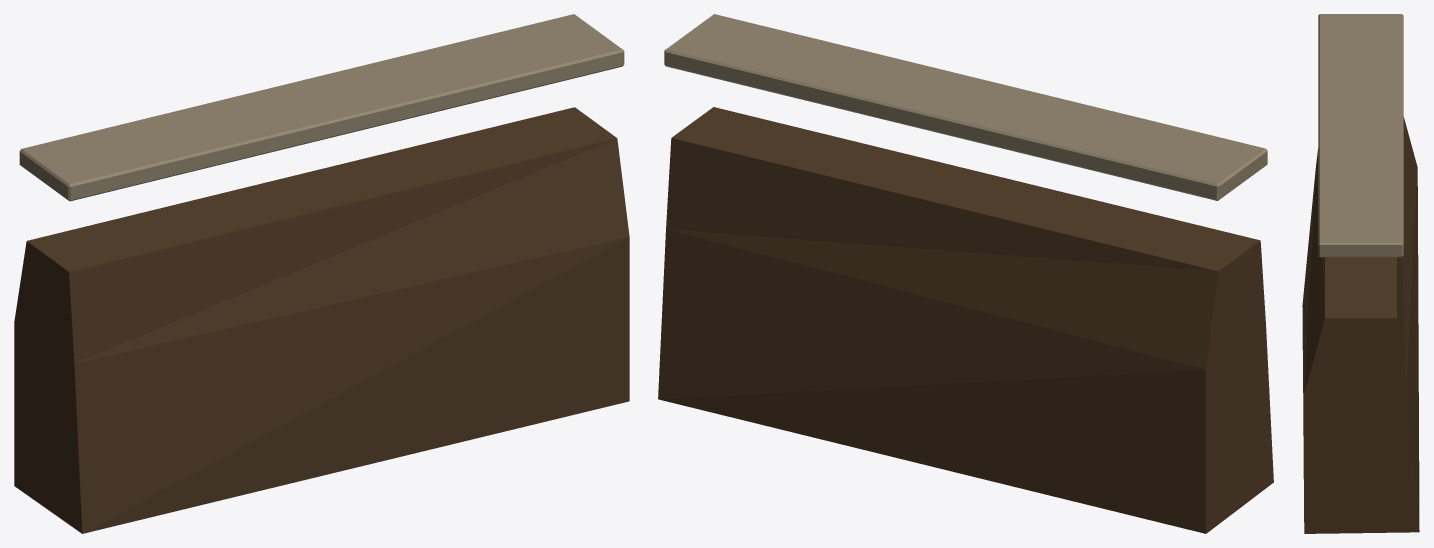
The model's file is retaining-wall-lod1.glb.
3 renders of one model, left to right at view 1: azimuth 30°, elevation 25°; view 2: azimuth 150°, elevation 25°; view 3: azimuth 270°, elevation 25°, orthographic. The views are drawn at different scales.
Bounding box in the file's own units: 6.05 × 3.58 × 1.3.
